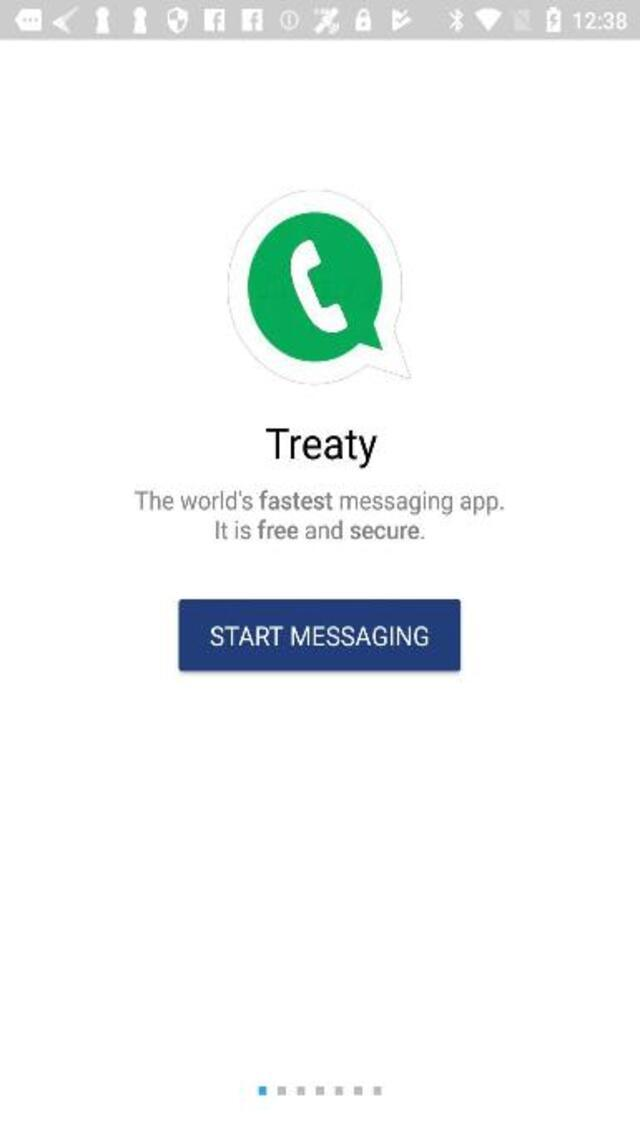Image: (226, 188, 412, 384)
Text: (134, 489, 503, 517), (207, 518, 429, 547), (207, 623, 433, 649), (265, 424, 376, 469)
TextButton: (178, 598, 460, 672)
